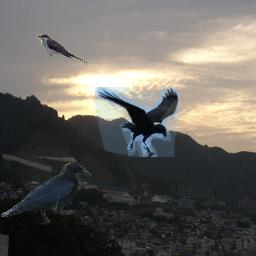Crow: (95, 87, 179, 157), (1, 162, 91, 225)
Cuckoo: (37, 34, 87, 64)
